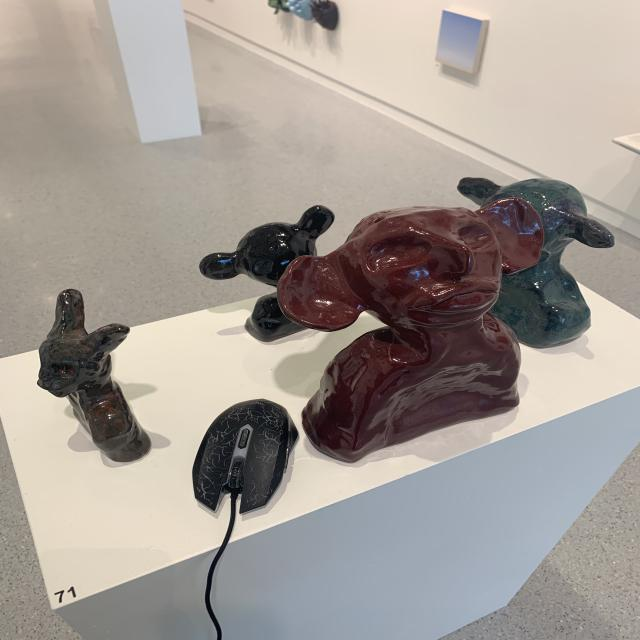Mouse: (181, 388, 310, 521)
